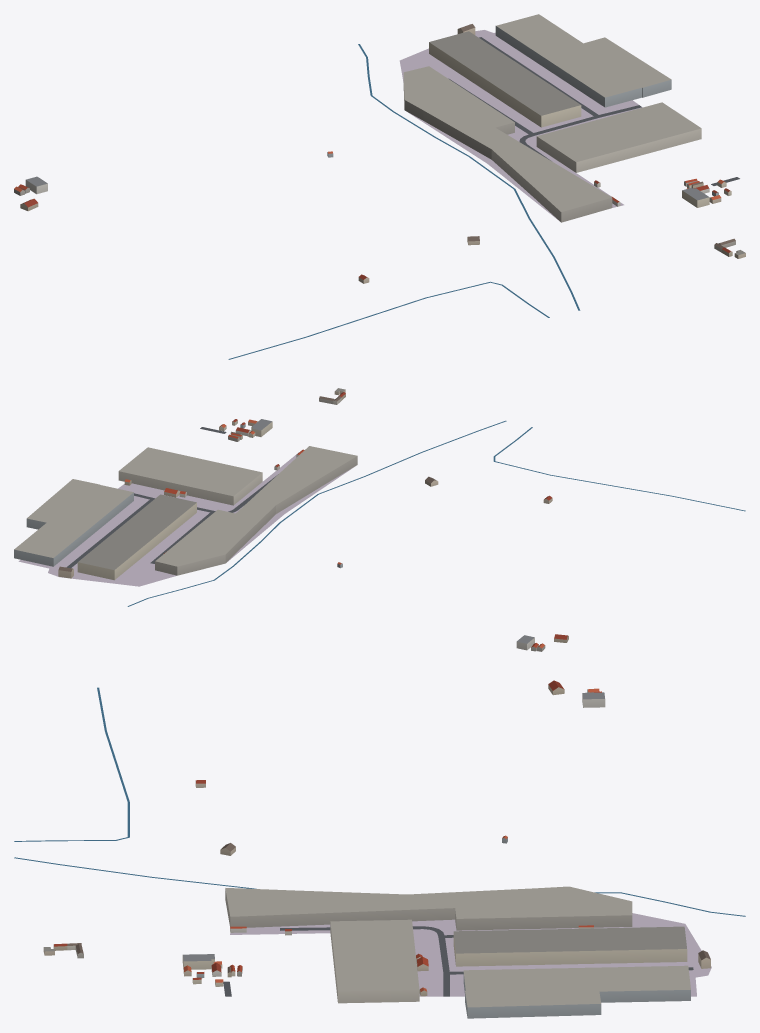
The picture shows the model from 3 angles, top to bottom: view 1: azimuth 30°, elevation 25°; view 2: azimuth 150°, elevation 25°; view 3: azimuth 270°, elevation 25°; orthographic projection. The views are drawn at different scales.
Visible parts, largest first — view 1: buildings_roofs, buildings_walls, landuse, water, roads; view 2: buildings_roofs, buildings_walls, landuse, water, roads; view 3: buildings_roofs, buildings_walls, landuse, water, roads.
Part boxes in pixels (x1,y1,x2,y2): buildings_roofs: [14, 14, 745, 279]; buildings_walls: [14, 26, 745, 283]; landuse: [399, 30, 642, 221]; water: [228, 44, 580, 359]; roads: [448, 37, 739, 185]; buildings_roofs: [14, 388, 567, 648]; buildings_walls: [14, 390, 568, 651]; landuse: [18, 452, 353, 586]; water: [127, 420, 745, 606]; roads: [66, 427, 278, 568]; buildings_roofs: [43, 680, 710, 1007]; buildings_walls: [43, 685, 710, 1018]; landuse: [230, 913, 711, 996]; water: [14, 687, 745, 916]; roads: [223, 926, 693, 996].
Bounding box in the file's own units: 537 × 9.82 × 500.
